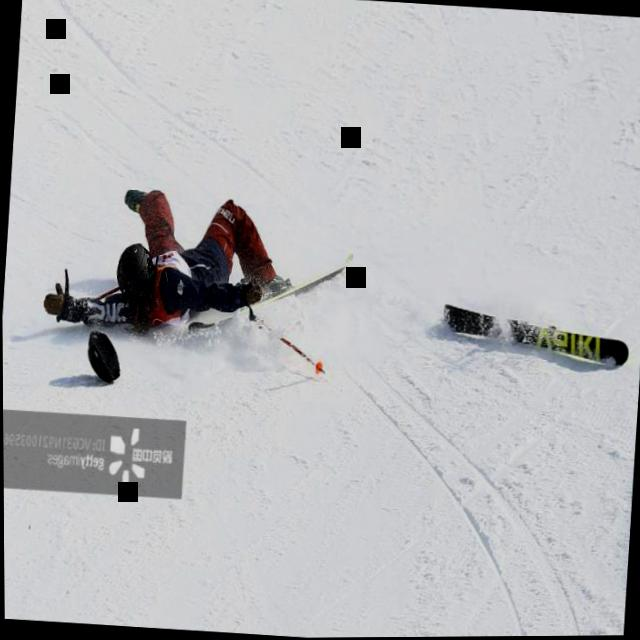Fall-Detected: (28, 160, 349, 376)
